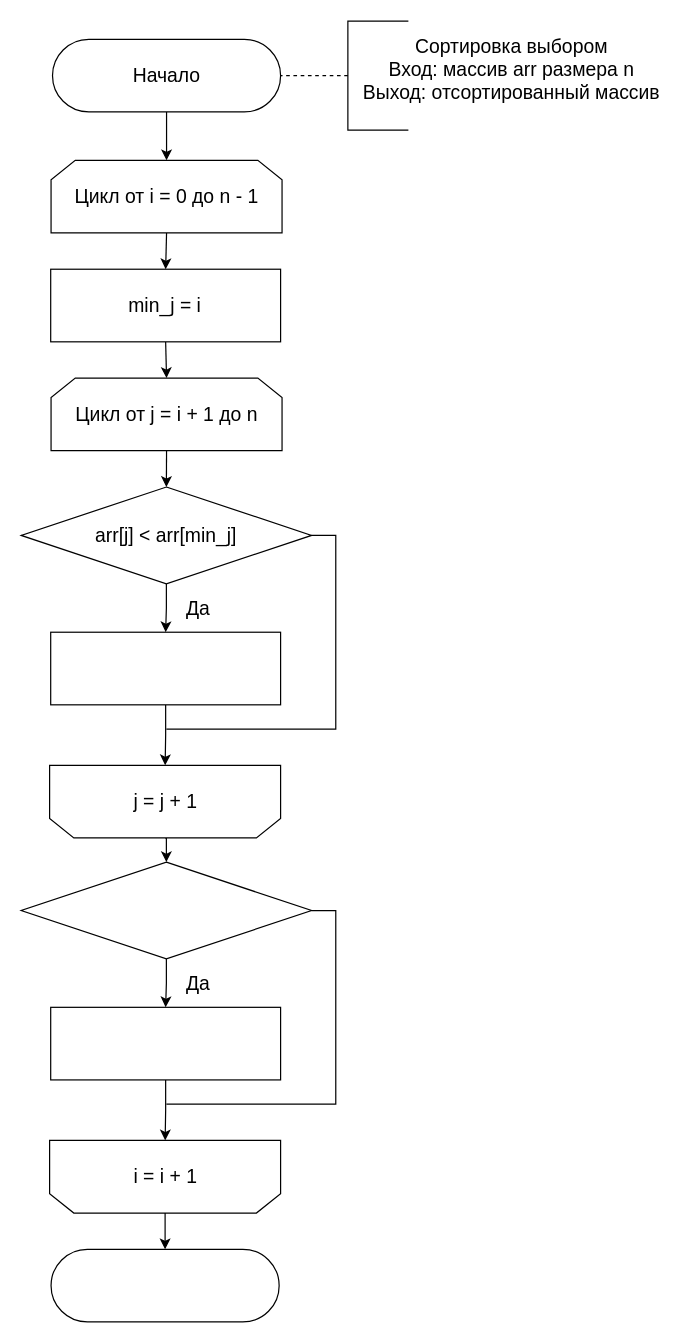
This 696x1343 diagram has some shape labels left out. The box of each missing label's shape, as (x1, y1, x2, y2) in pixels:
min_j != i: (20, 861, 312, 959)
min_j = j: (49, 631, 281, 705)
Конец: (50, 1248, 279, 1322)
Обмен местами arr[i] и arr[min_j]: (49, 1006, 281, 1080)
